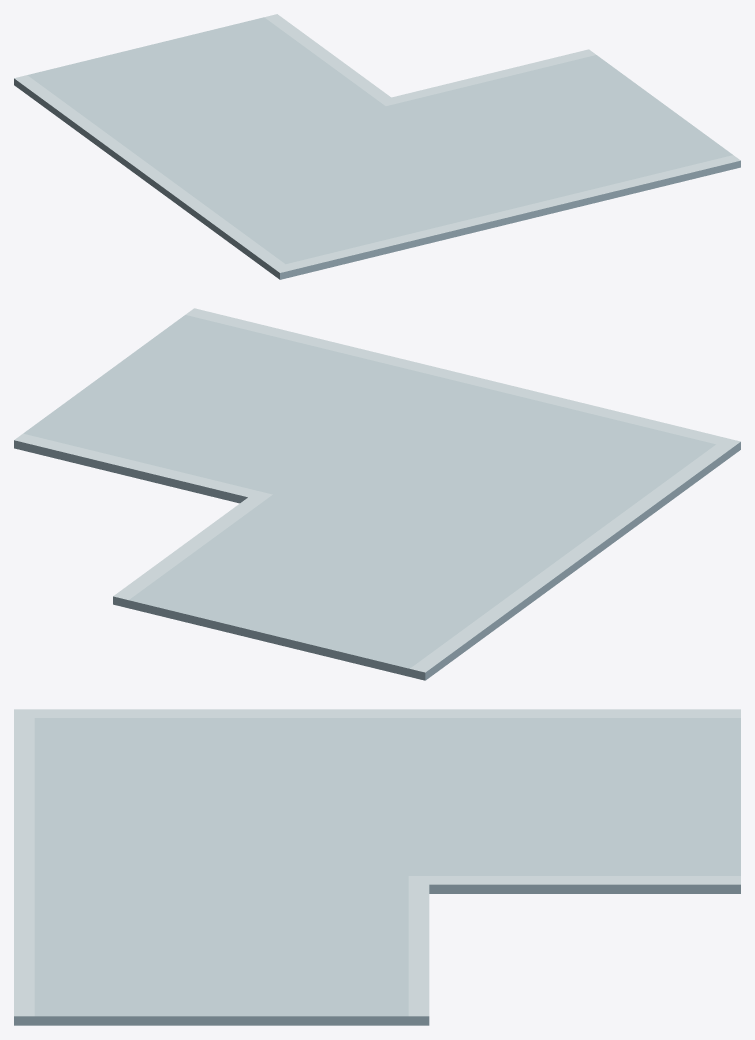
The model's file is campus_walk_corner_v01.glb.
3 views of the same model, one above another, from view 1: azimuth 30°, elevation 25°; view 2: azimuth 150°, elevation 25°; view 3: azimuth 270°, elevation 25° (orthographic). The views are drawn at different scales.
Parts seen in each view (by area): view 1: campus_walk_corner; view 2: campus_walk_corner; view 3: campus_walk_corner.
Part boxes in pixels (<box>): campus_walk_corner: <box>14,14,740,279</box>; campus_walk_corner: <box>14,308,740,680</box>; campus_walk_corner: <box>14,709,740,1025</box>.
Size of the model in its own units: 5.6 by 0.08 by 5.6.
1 material, 1 textured.
